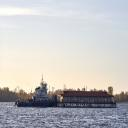tugboat: (15, 79, 60, 112)
